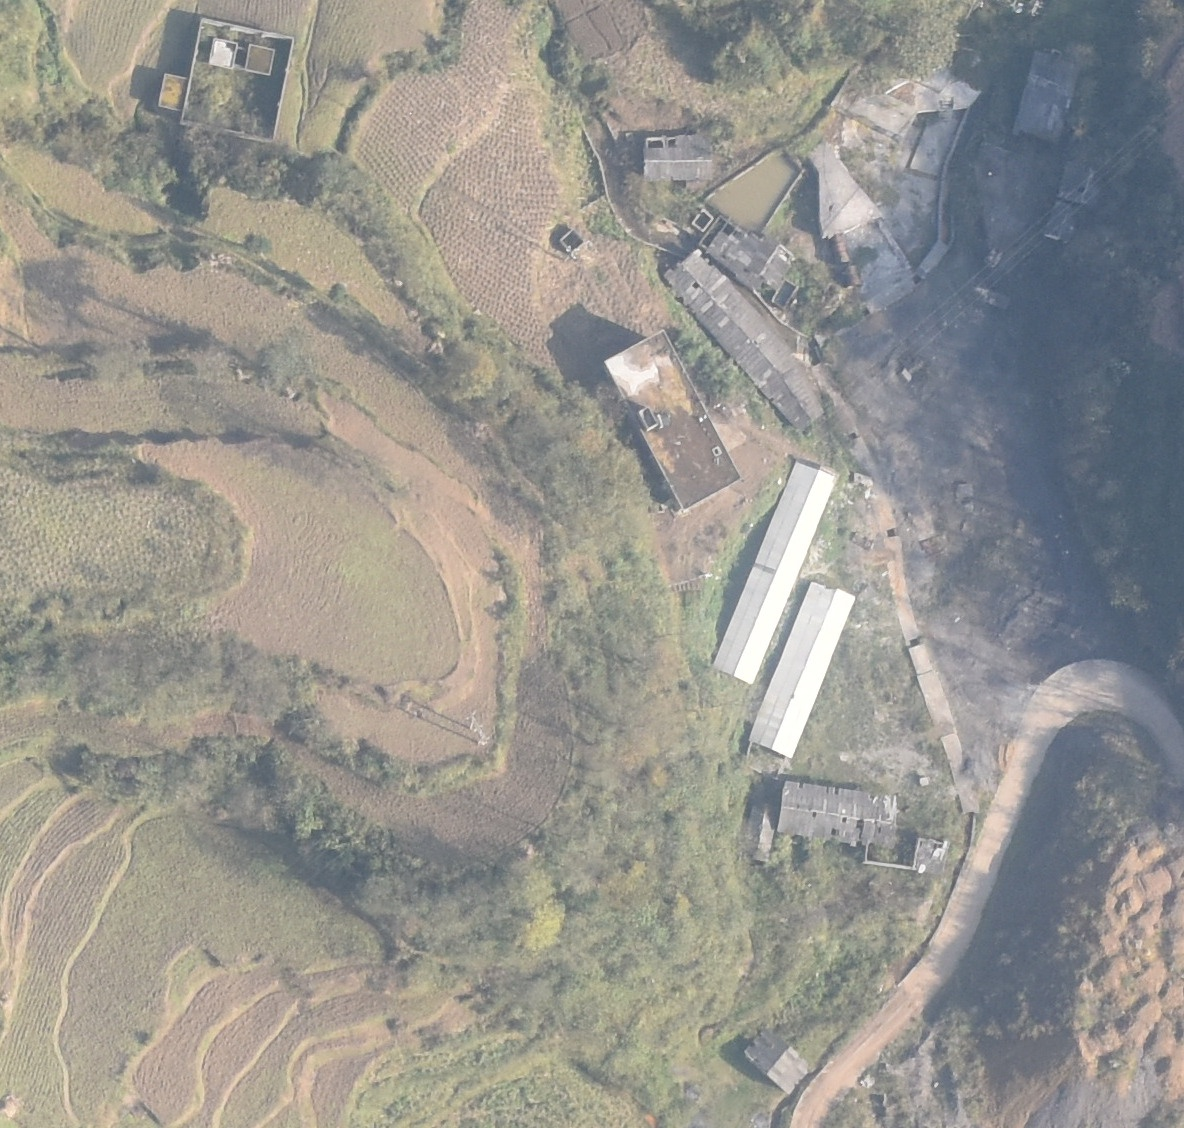building: (602, 327, 750, 512), (159, 18, 300, 144), (807, 142, 884, 240), (700, 217, 796, 294), (1010, 51, 1083, 144), (744, 1030, 811, 1093), (740, 800, 779, 861), (1055, 160, 1094, 204), (1043, 202, 1073, 239)
cable-tower: (466, 711, 492, 750)
pool: (704, 145, 808, 233)
prefabricated-house: (668, 247, 833, 434), (713, 461, 839, 688), (750, 583, 858, 762), (776, 780, 898, 846), (636, 132, 711, 184)
